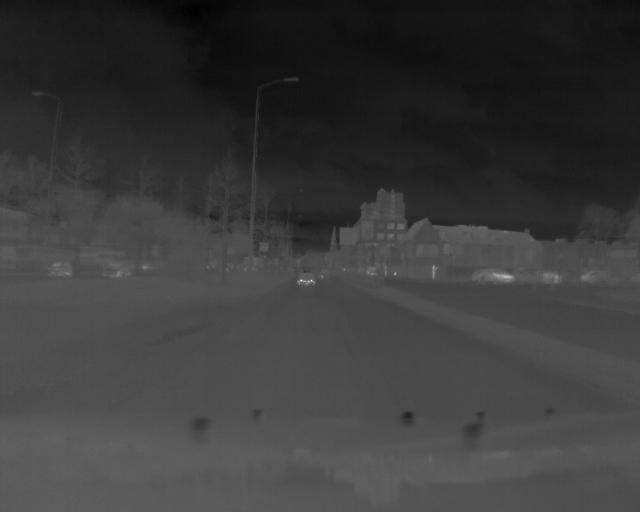car: (469, 267, 516, 287), (46, 259, 76, 279), (295, 270, 318, 288)
